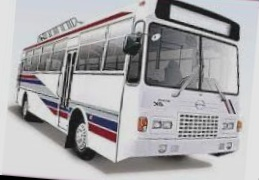bus: (13, 0, 253, 175)
